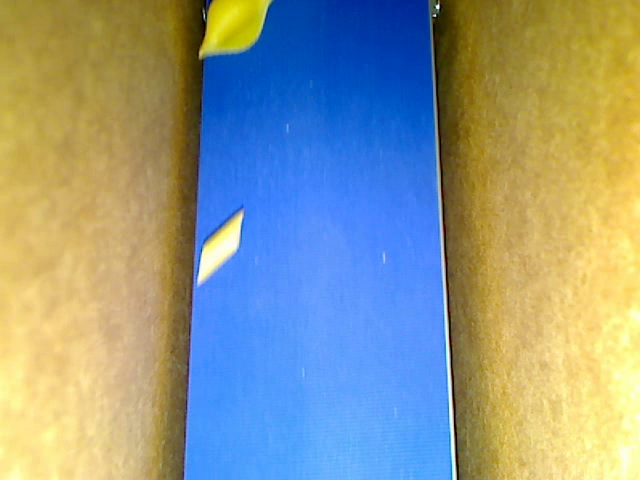penne: (196, 206, 245, 286)
shell: (198, 1, 273, 58)
